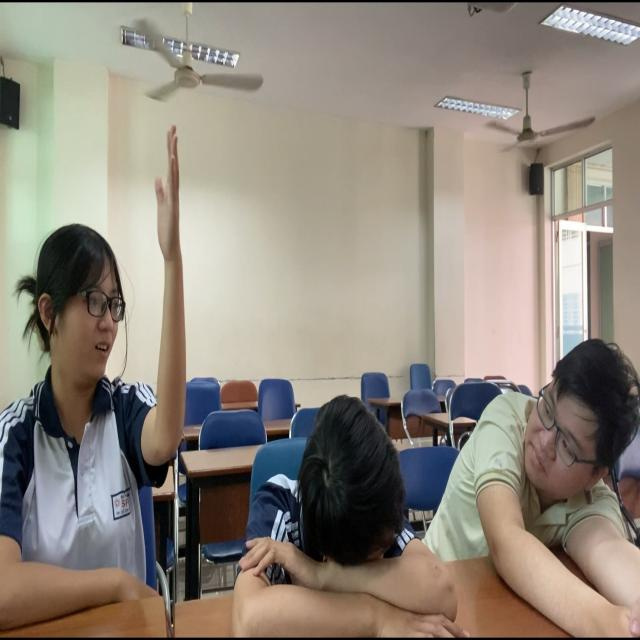raise_hand: (1, 115, 194, 640)
sleep: (241, 390, 442, 640)
